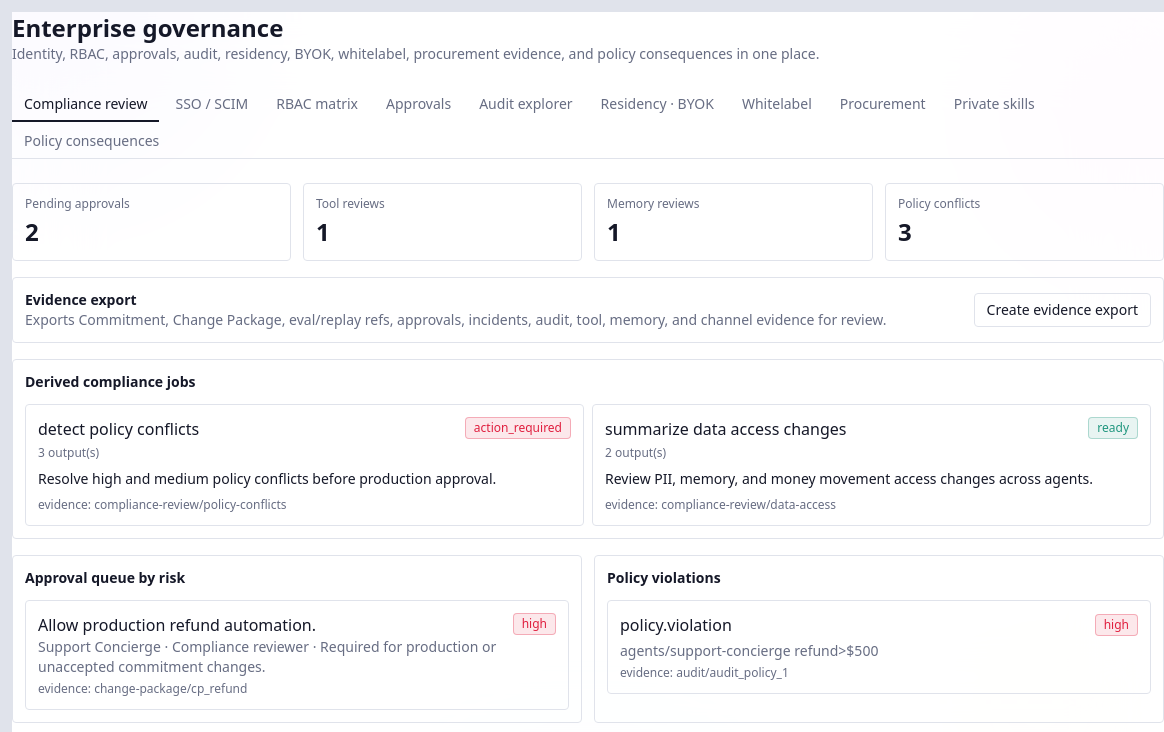
GovernOverview › policy tab shows blocking + warn consequences
Click the tab with test id "govern-tab-policy" at point(92, 142), box [12,125,171,159]
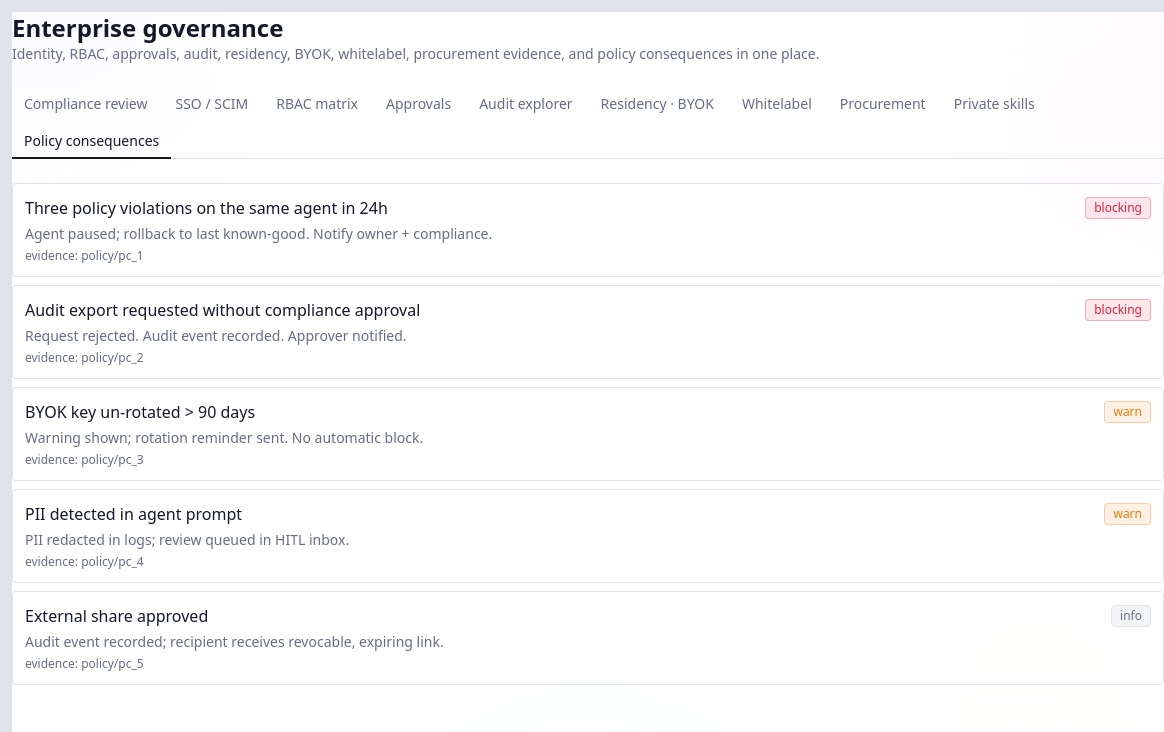
Result: the list item with test id "policy-row-pc_1" shows "blocking" at [1094,199,1142,216]
Result: the list item with test id "policy-row-pc_3" shows "warn" at [1114,403,1142,420]
